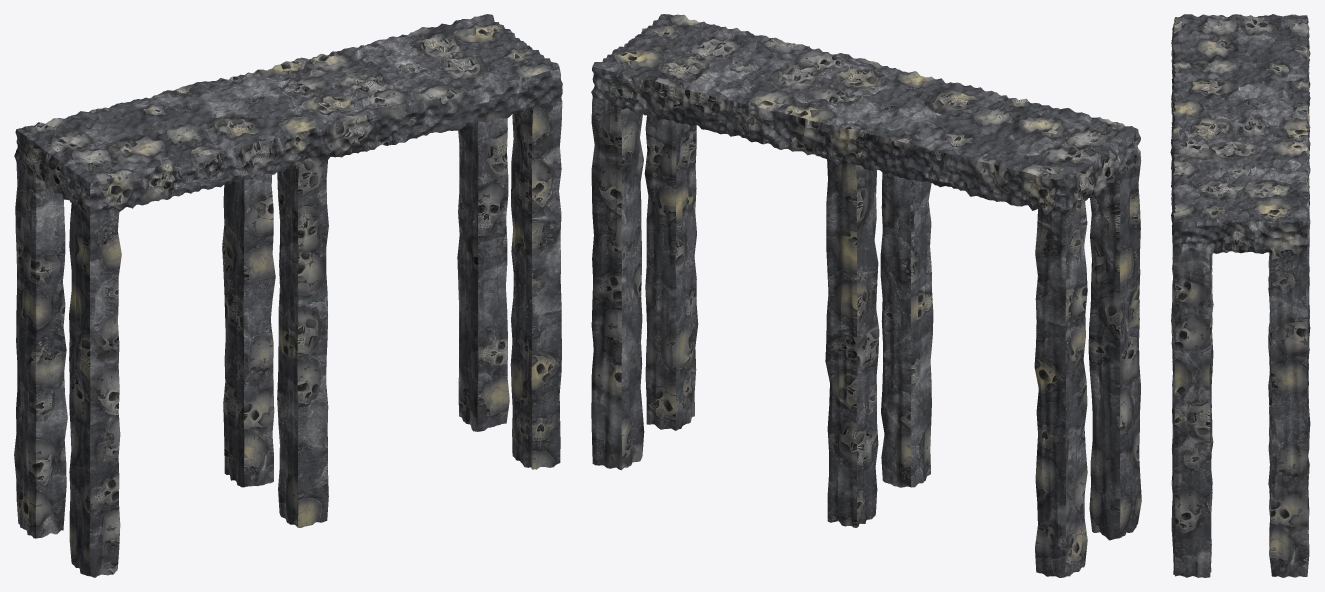
The model's file is dock.glb.
The picture shows the model from 3 angles, left to right: view 1: azimuth 30°, elevation 25°; view 2: azimuth 150°, elevation 25°; view 3: azimuth 270°, elevation 25°; orthographic projection. The views are drawn at different scales.
Parts seen in each view (by area): view 1: dock.001; view 2: dock.001; view 3: dock.001.
Boxes of the visible parts, <box> form: dock.001: <box>14,14,562,577</box>; dock.001: <box>591,14,1141,577</box>; dock.001: <box>1170,14,1310,577</box>.
Bounding box in the file's own units: 122 × 98.64 × 34.61.
Materials: 1 (1 with a texture image).
